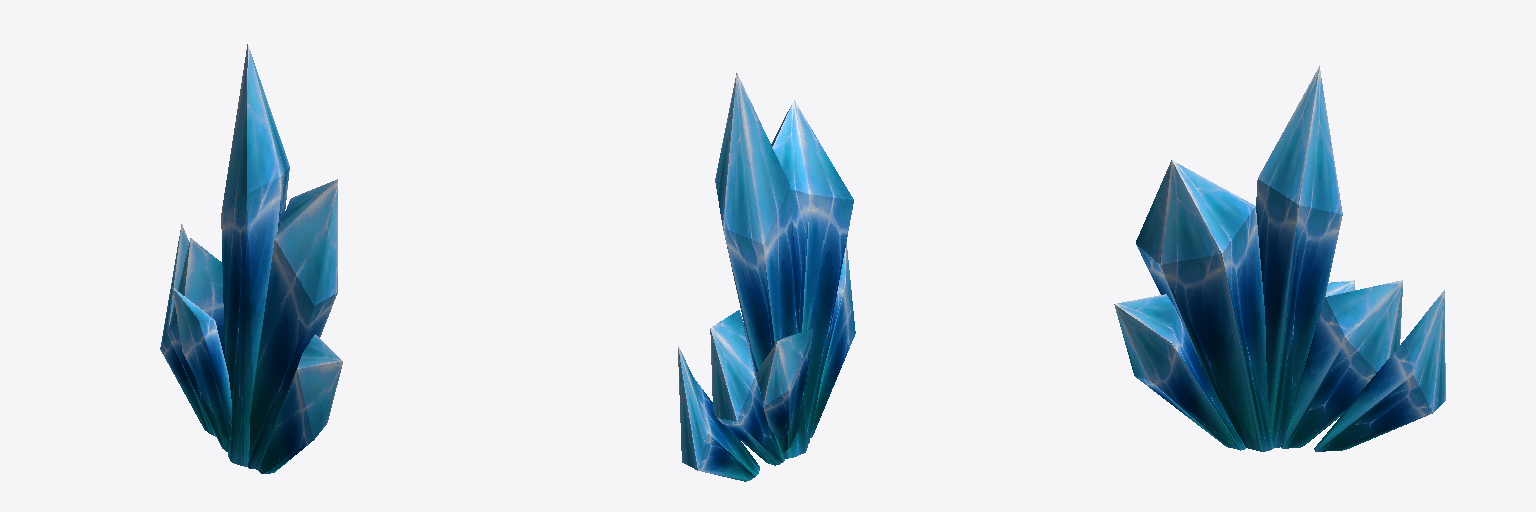
3 views of the same model, side by side, from view 1: azimuth 30°, elevation 25°; view 2: azimuth 150°, elevation 25°; view 3: azimuth 270°, elevation 25° (orthographic).
Parts seen in each view (by area): view 1: ungorocrystal_blue01; view 2: ungorocrystal_blue01; view 3: ungorocrystal_blue01.
Part boxes in pixels (left/top/right/bottom): ungorocrystal_blue01: left=160, top=44, right=342, bottom=473; ungorocrystal_blue01: left=678, top=73, right=855, bottom=481; ungorocrystal_blue01: left=1114, top=66, right=1445, bottom=451.
Bounding box in the file's own units: 0.5486 × 1.99 × 1.53.
Materials: 1 (1 with a texture image).